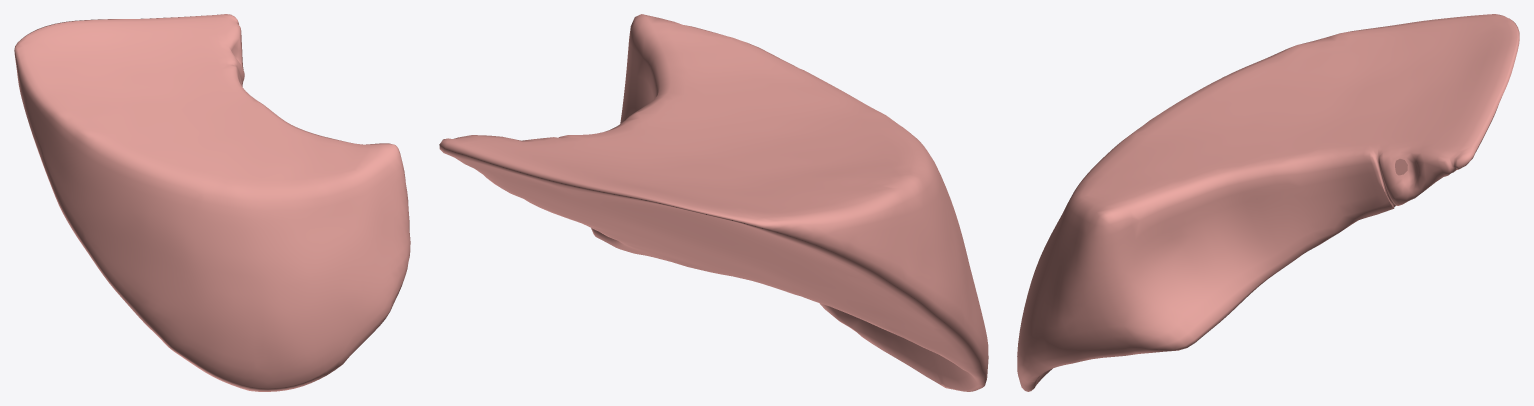
The model's file is lung-middle-right.glb.
3 renders of one model, left to right at view 1: azimuth 30°, elevation 25°; view 2: azimuth 150°, elevation 25°; view 3: azimuth 270°, elevation 25°, orthographic. The views are drawn at different scales.
Parts seen in each view (by area): view 1: Middle lobe of right lung; view 2: Middle lobe of right lung; view 3: Middle lobe of right lung.
Boxes of the visible parts, x1=… form: Middle lobe of right lung: x1=14, y1=14, x2=410, y2=391; Middle lobe of right lung: x1=439, y1=14, x2=988, y2=391; Middle lobe of right lung: x1=1017, y1=14, x2=1519, y2=391.
Bounding box in the file's own units: 0.1178 × 0.1036 × 0.15.
